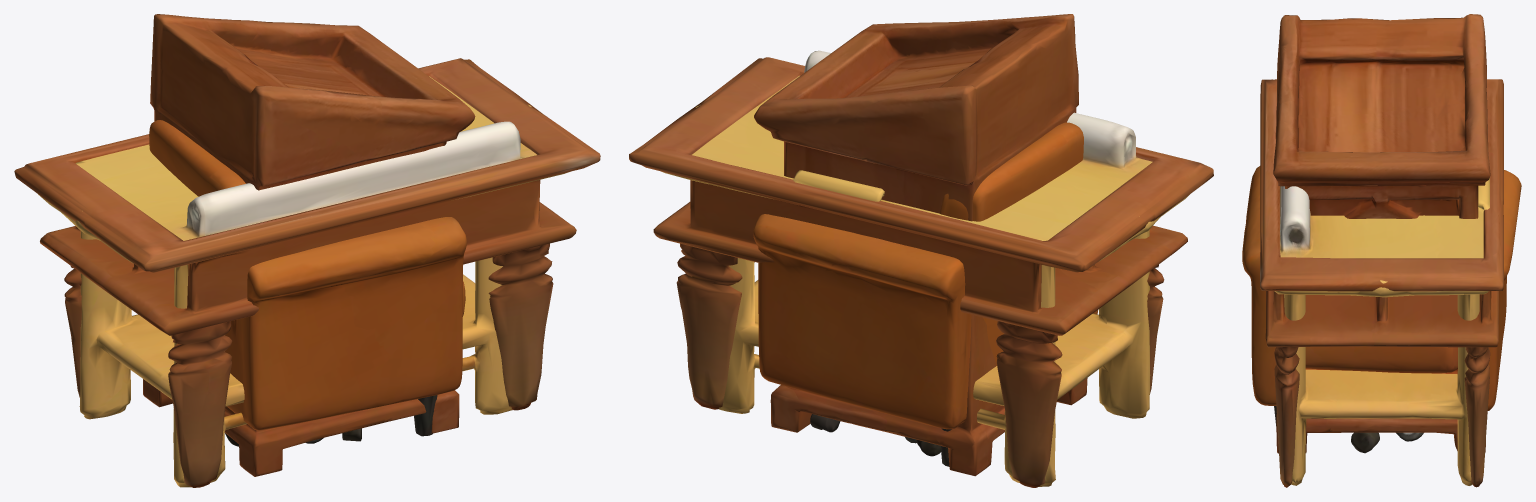
The model's file is mobilier.glb.
3 views of the same model, side by side, from view 1: azimuth 30°, elevation 25°; view 2: azimuth 150°, elevation 25°; view 3: azimuth 270°, elevation 25° (orthographic). The views are drawn at different scales.
Parts seen in each view (by area): view 1: table-presentoir-livres, pupitre, fauteuil-club, table-fleuriste; view 2: table-presentoir-livres, pupitre, fauteuil-club, table-fleuriste, chaise-de-bureau; view 3: pupitre, table-presentoir-livres, table-fleuriste, fauteuil-club, chaise-de-bureau.
Boxes of the visible parts, x1,y1,x2,y2 form: table-presentoir-livres: [14, 58, 600, 487]; pupitre: [143, 14, 475, 476]; fauteuil-club: [149, 120, 466, 436]; table-fleuriste: [38, 76, 568, 487]; table-presentoir-livres: [629, 57, 1213, 487]; pupitre: [754, 14, 1087, 476]; fauteuil-club: [753, 122, 1097, 466]; table-fleuriste: [661, 50, 1189, 486]; chaise-de-bureau: [810, 414, 940, 456]; pupitre: [1273, 14, 1490, 453]; table-presentoir-livres: [1260, 79, 1503, 487]; table-fleuriste: [1274, 178, 1489, 485]; fauteuil-club: [1242, 166, 1521, 425]; chaise-de-bureau: [1351, 432, 1379, 453].
Size of the model in its own units: 1.5 by 1.2 by 0.8577.
Materials: 1 (1 with a texture image).
